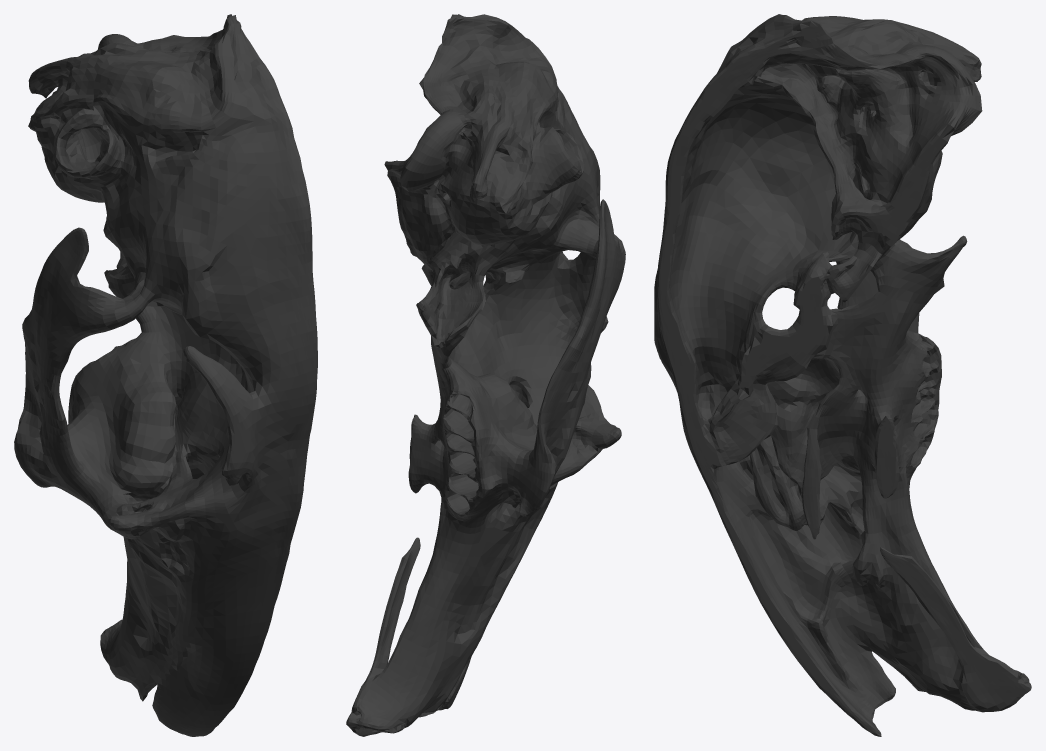
File: SKULL_R_low.glb
3 renders of one model, left to right at view 1: azimuth 30°, elevation 25°; view 2: azimuth 150°, elevation 25°; view 3: azimuth 270°, elevation 25°, orthographic. The views are drawn at different scales.
Parts seen in each view (by area): view 1: SKULL_R_low; view 2: SKULL_R_low; view 3: SKULL_R_low.
Part boxes in pixels (<box>): SKULL_R_low: <box>14,14,317,736</box>; SKULL_R_low: <box>346,14,625,736</box>; SKULL_R_low: <box>654,14,1031,736</box>.
Size of the model in its own units: 2.2 by 8.43 by 4.04.
1 material, 1 textured.
